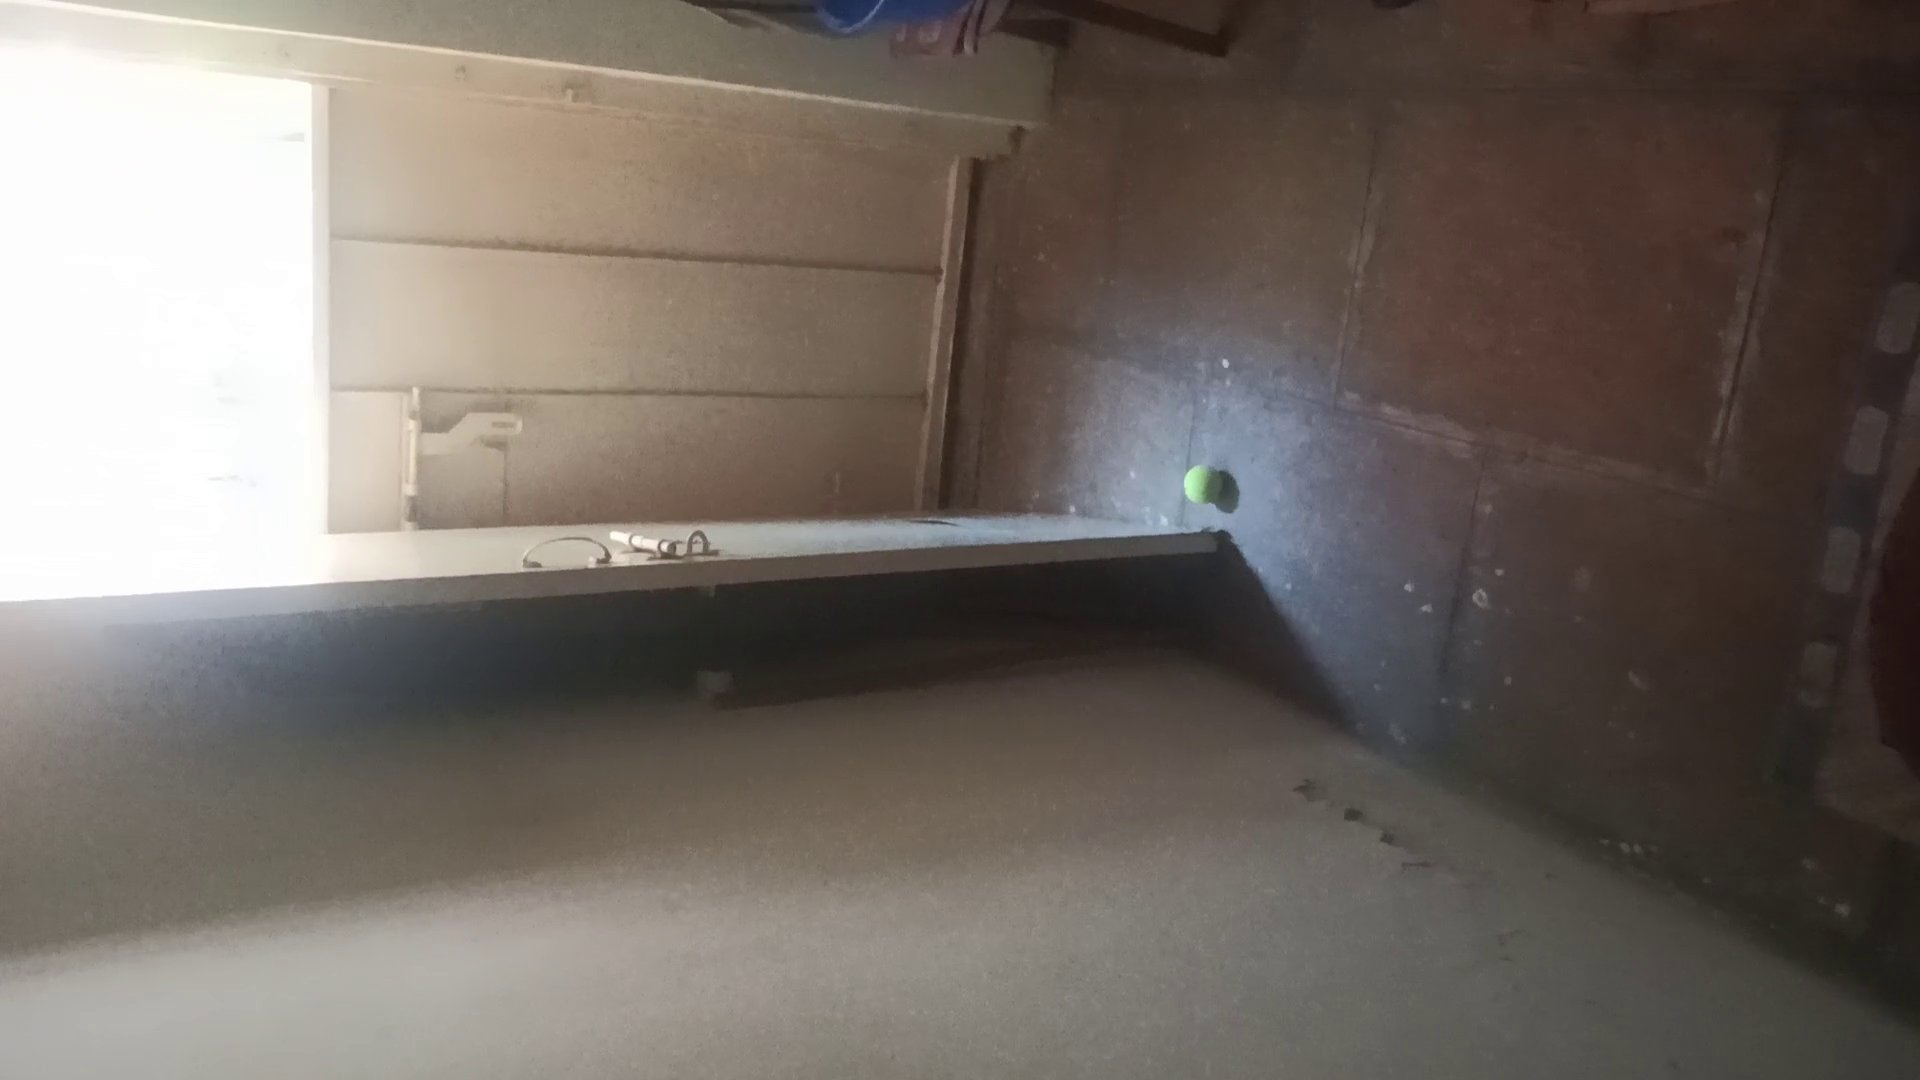Tennis-Ball: (1183, 463, 1222, 505)
